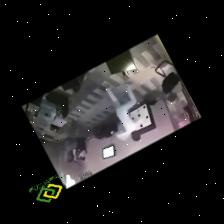person: (106, 83, 142, 140)
